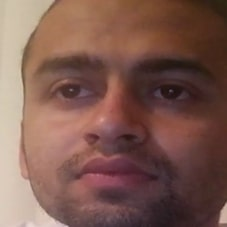drowsy: (32, 41, 227, 215)
